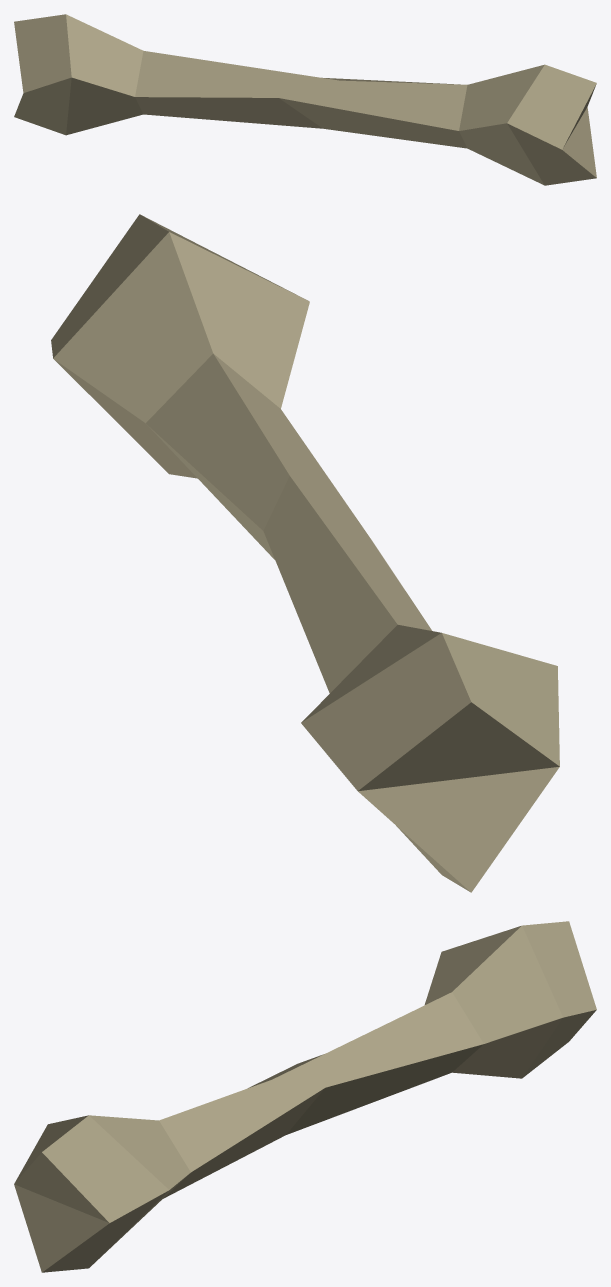
Rendered from bone_01.fbx.
3 views of the same model, one above another, from view 1: azimuth 30°, elevation 25°; view 2: azimuth 150°, elevation 25°; view 3: azimuth 270°, elevation 25° (orthographic). The views are drawn at different scales.
Parts seen in each view (by area): view 1: bone_01; view 2: bone_01; view 3: bone_01.
Part boxes in pixels (bbox=[...]): bone_01: bbox=[14, 14, 596, 185]; bone_01: bbox=[51, 214, 559, 892]; bone_01: bbox=[14, 921, 596, 1272].
Size of the model in its own units: 1.49 by 0.421 by 1.45.
